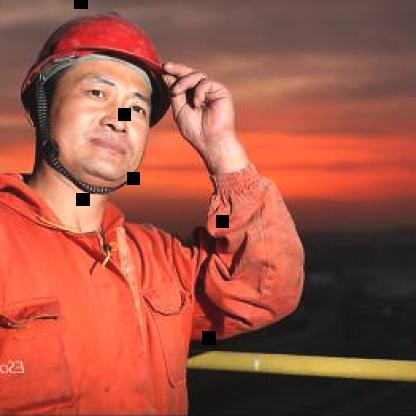helmet: (17, 0, 181, 202)
